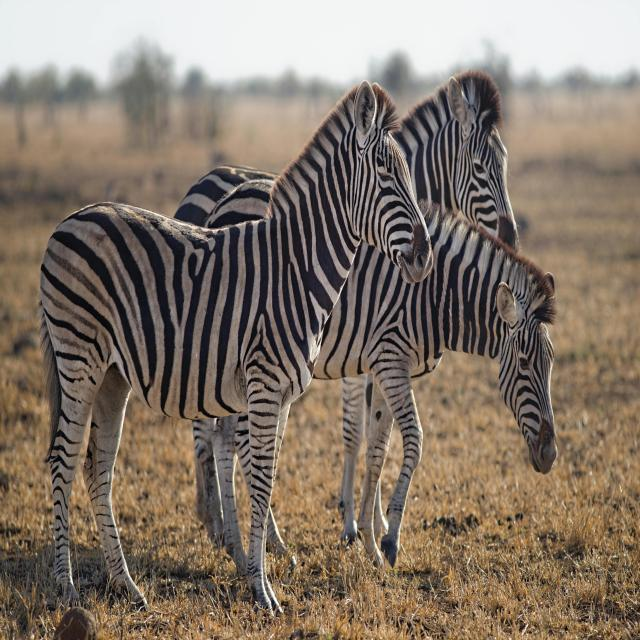Zebra: (39, 77, 433, 619), (176, 71, 523, 538), (210, 175, 558, 584)
